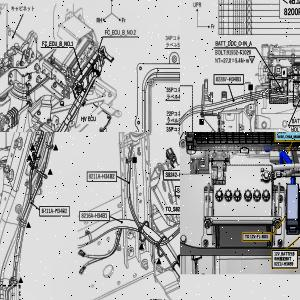PartNumber: (82, 212, 108, 220), (215, 76, 242, 82), (41, 208, 68, 214), (88, 173, 115, 179), (226, 49, 251, 55), (274, 261, 294, 266), (165, 171, 180, 177)
